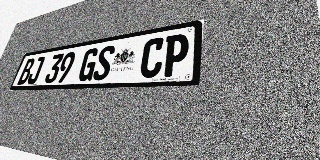3: (44, 53, 65, 83)
9: (55, 51, 77, 83)
B: (17, 58, 36, 85)
C: (138, 37, 166, 78)
G: (77, 47, 100, 81)
J: (26, 56, 46, 84)
P: (161, 33, 190, 77)
S: (92, 45, 116, 81)
